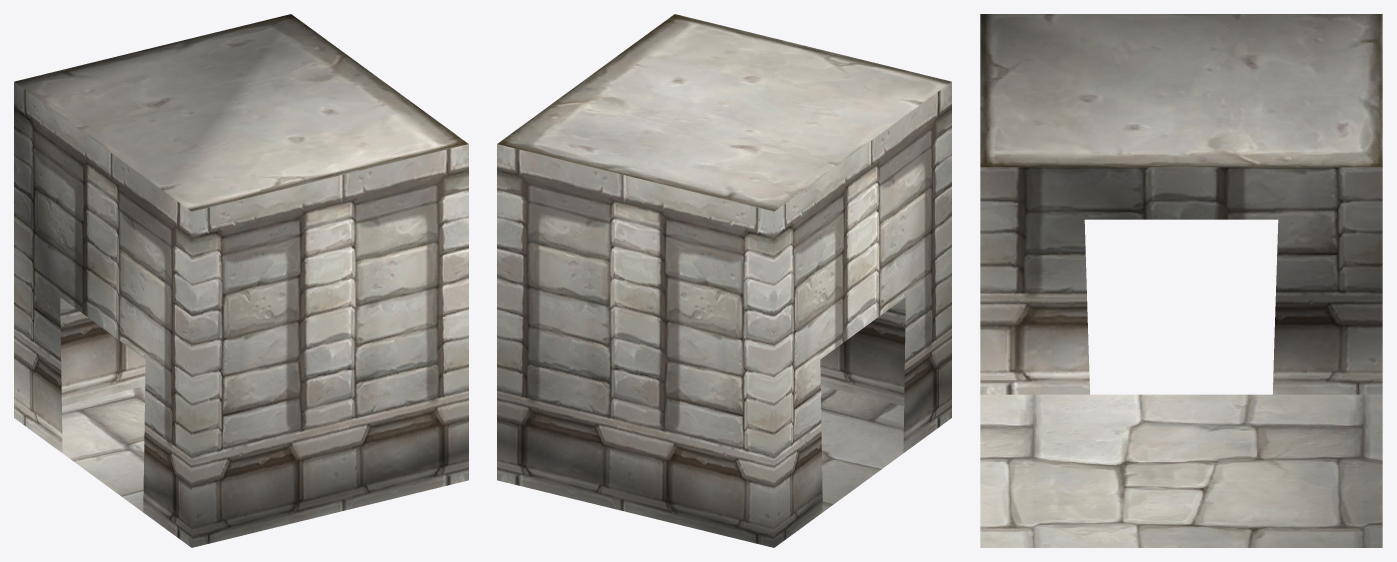
The model's file is stormwind_202.fbx.
3 views of the same model, side by side, from view 1: azimuth 30°, elevation 25°; view 2: azimuth 150°, elevation 25°; view 3: azimuth 270°, elevation 25° (orthographic). The views are drawn at different scales.
Parts seen in each view (by area): view 1: stormwind_202_60, stormwind_202_40, stormwind_202_52; view 2: stormwind_202_60, stormwind_202_40, stormwind_202_52; view 3: stormwind_202_40, stormwind_202_52, stormwind_202_60.
Part boxes in pixels (x1,y1,x2,y2): stormwind_202_60: (14,82,468,547); stormwind_202_40: (14,14,468,211); stormwind_202_52: (62,386,145,511); stormwind_202_60: (497,82,951,547); stormwind_202_40: (497,14,951,211); stormwind_202_52: (820,386,904,511); stormwind_202_40: (980,14,1382,167); stormwind_202_52: (980,394,1382,547); stormwind_202_60: (980,167,1382,394).
Size of the model in its own units: 7.18 by 8.33 by 7.98.
